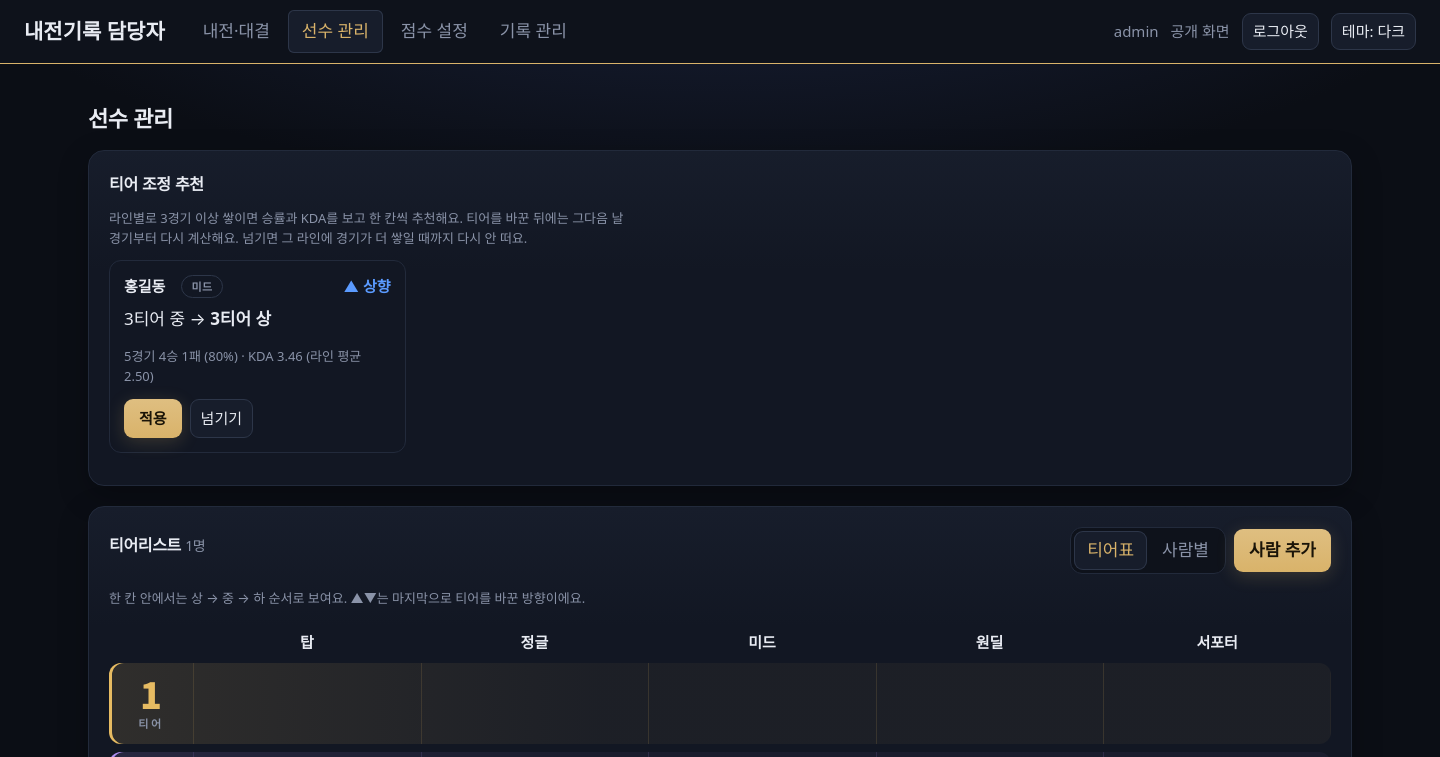
TierRecommendations › 적용하면 해당 라인만 추천 티어로 바꿔 recordChange true로 PUT하고 추천을 다시 불러온다
Click the button with aria-label "홍길동 미드 적용": (153, 419) 124,399 -> 182,438
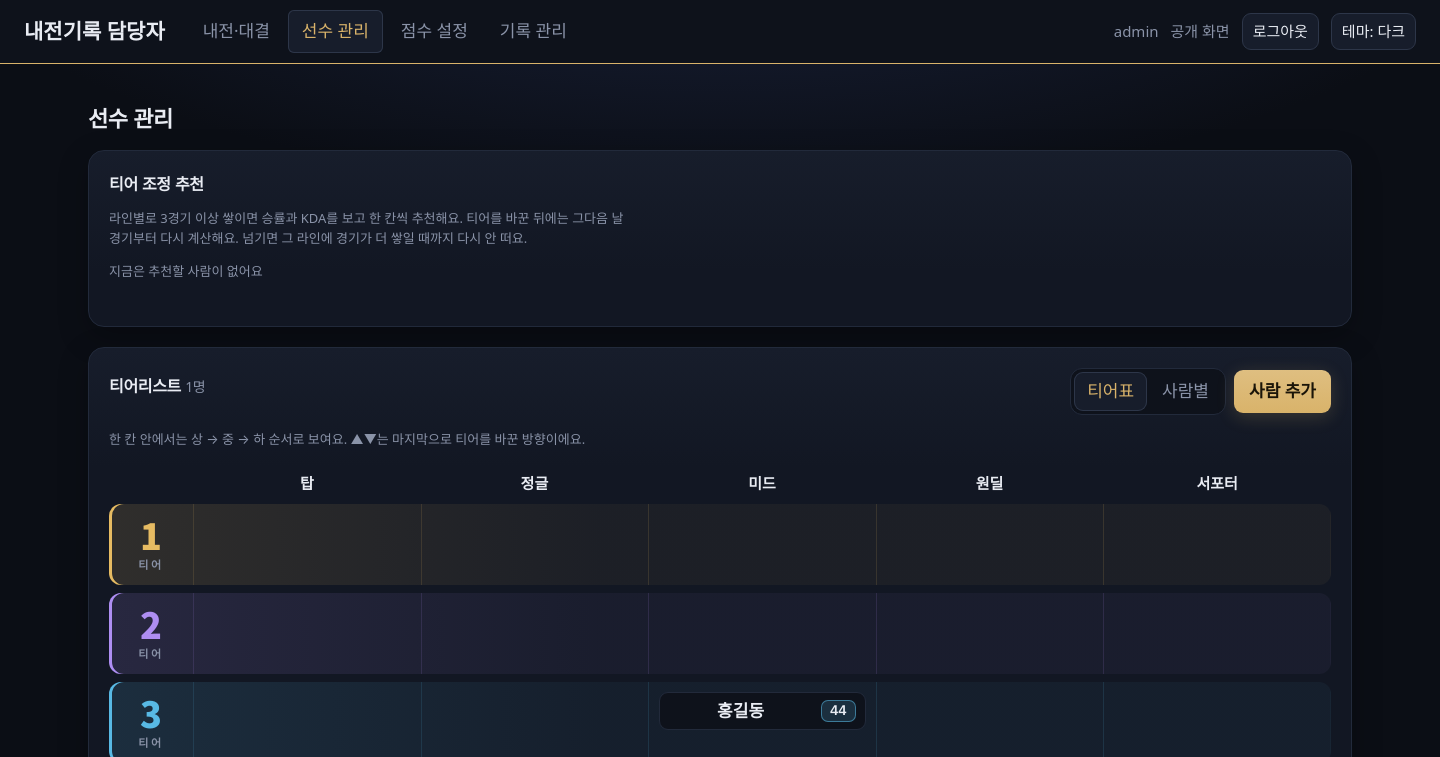
Expected: the text "지금은 추천할 사람이 없어요" is shown, 109,262 -> 263,280
